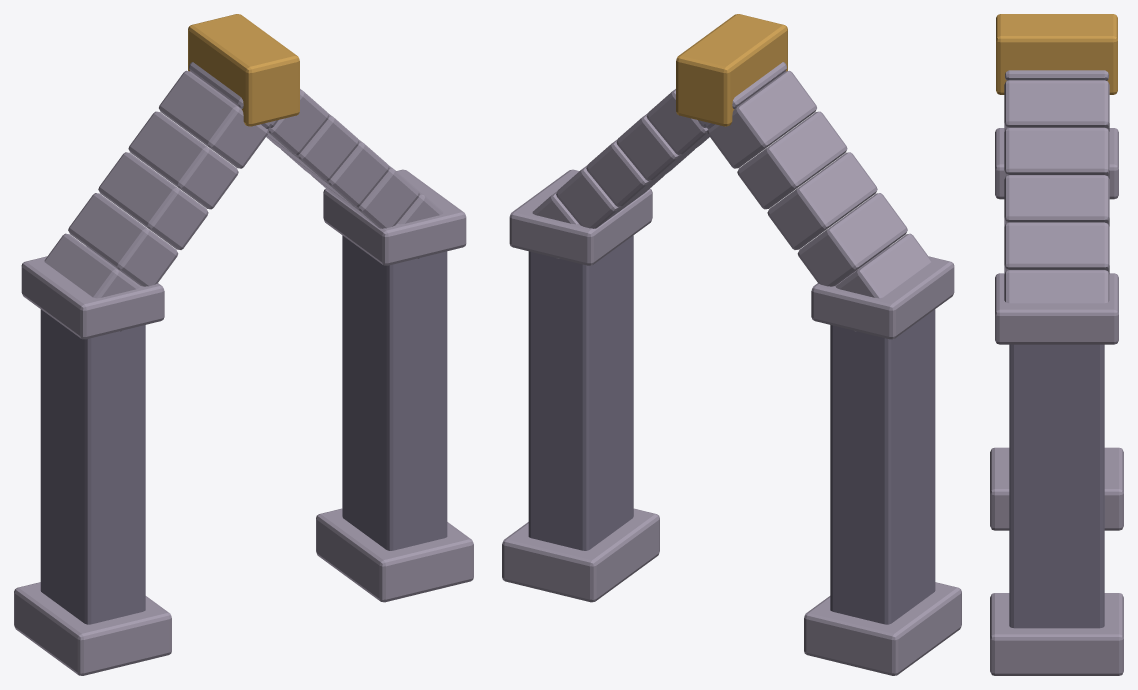
The model's file is arch.glb.
The picture shows the model from 3 angles, left to right: view 1: azimuth 30°, elevation 25°; view 2: azimuth 150°, elevation 25°; view 3: azimuth 270°, elevation 25°; orthographic projection.
Visible parts, largest first — view 1: gate pier.001, gate pier, base, base.001, keystone, capital, capital.001, arch stone.003, arch stone.002, arch stone.001, arch stone.004, arch stone (+5 smaller); view 2: gate pier.001, gate pier, base, base.001, keystone, capital, capital.001, arch stone.003, arch stone.002, arch stone.001, arch stone.004, arch stone (+5 smaller); view 3: gate pier.001, base.001, keystone, capital.001, arch stone.007, arch stone.008, arch stone.009, arch stone.010, arch stone.006, base, capital, arch stone.011 (+1 smaller).
Part boxes in pixels (x1=…): gate pier.001: x1=342, y1=235, x2=447, y2=550; gate pier: x1=40, y1=309, x2=145, y2=624; base: x1=14, y1=582, x2=171, y2=675; base.001: x1=316, y1=508, x2=473, y2=602; keystone: x1=188, y1=14, x2=299, y2=126; capital: x1=21, y1=247, x2=164, y2=339; capital.001: x1=323, y1=169, x2=466, y2=265; arch stone.003: x1=128, y1=111, x2=238, y2=209; arch stone.002: x1=98, y1=152, x2=208, y2=249; arch stone.001: x1=68, y1=193, x2=178, y2=286; arch stone.004: x1=159, y1=70, x2=268, y2=168; arch stone: x1=44, y1=233, x2=140, y2=331; gate pier.001: x1=528, y1=235, x2=633, y2=550; gate pier: x1=830, y1=309, x2=935, y2=624; base: x1=804, y1=582, x2=961, y2=675; base.001: x1=502, y1=508, x2=659, y2=602; keystone: x1=676, y1=14, x2=787, y2=126; capital: x1=811, y1=247, x2=954, y2=339; capital.001: x1=509, y1=169, x2=652, y2=265; arch stone.003: x1=737, y1=111, x2=847, y2=209; arch stone.002: x1=767, y1=152, x2=877, y2=249; arch stone.001: x1=797, y1=193, x2=907, y2=286; arch stone.004: x1=707, y1=70, x2=816, y2=168; arch stone: x1=835, y1=233, x2=931, y2=331; gate pier.001: x1=1009, y1=344, x2=1104, y2=628; base.001: x1=990, y1=593, x2=1123, y2=675; keystone: x1=996, y1=14, x2=1117, y2=94; capital.001: x1=995, y1=273, x2=1118, y2=344; arch stone.007: x1=1004, y1=222, x2=1109, y2=273; arch stone.008: x1=1004, y1=175, x2=1109, y2=226; arch stone.009: x1=1004, y1=127, x2=1109, y2=178; arch stone.010: x1=1004, y1=80, x2=1109, y2=131; arch stone.006: x1=1004, y1=270, x2=1109, y2=303; base: x1=990, y1=447, x2=1123, y2=530; capital: x1=995, y1=128, x2=1118, y2=199; arch stone.011: x1=1005, y1=70, x2=1108, y2=77.
Size of the model in its own units: 2.36 by 3.22 by 0.7.
